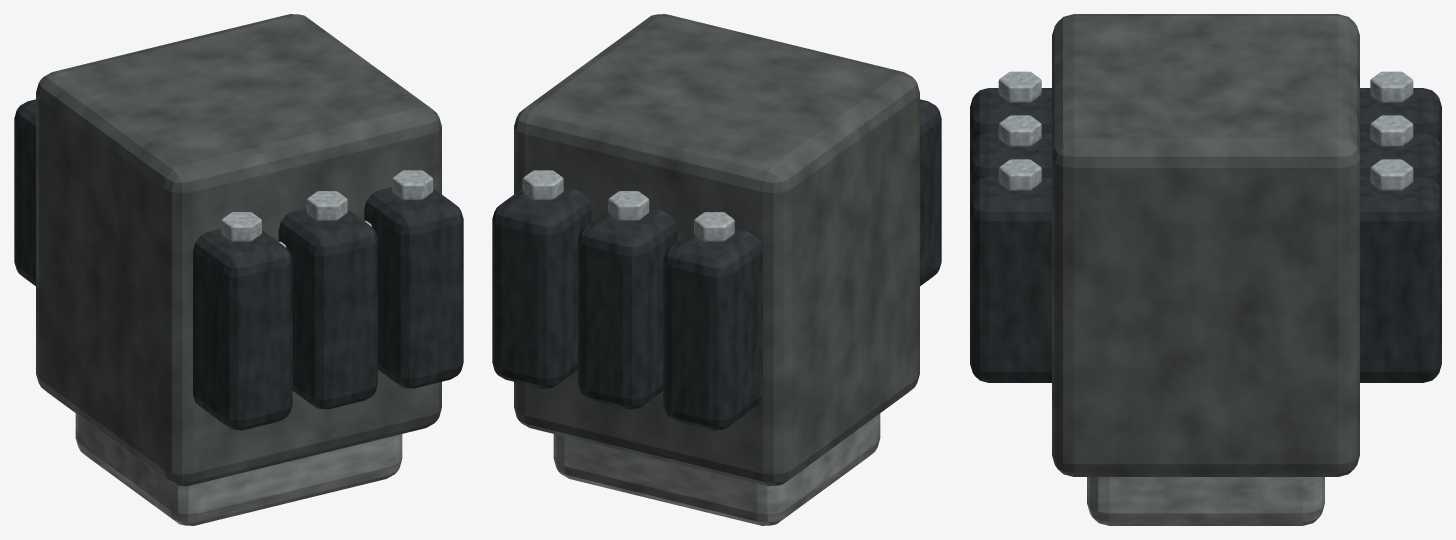
Rendered from GR_DINContactor_04.glb.
The picture shows the model from 3 angles, left to right: view 1: azimuth 30°, elevation 25°; view 2: azimuth 150°, elevation 25°; view 3: azimuth 270°, elevation 25°; orthographic projection. The views are drawn at different scales.
Visible parts, largest first — view 1: Static; view 2: Static; view 3: Static.
Boxes of the visible parts, x1,y1,x2,y2 form: Static: (14, 14, 463, 525); Static: (492, 14, 941, 525); Static: (970, 14, 1441, 525).
Size of the model in its own units: 0.09 by 0.118 by 0.127.
1 material, 1 textured.
